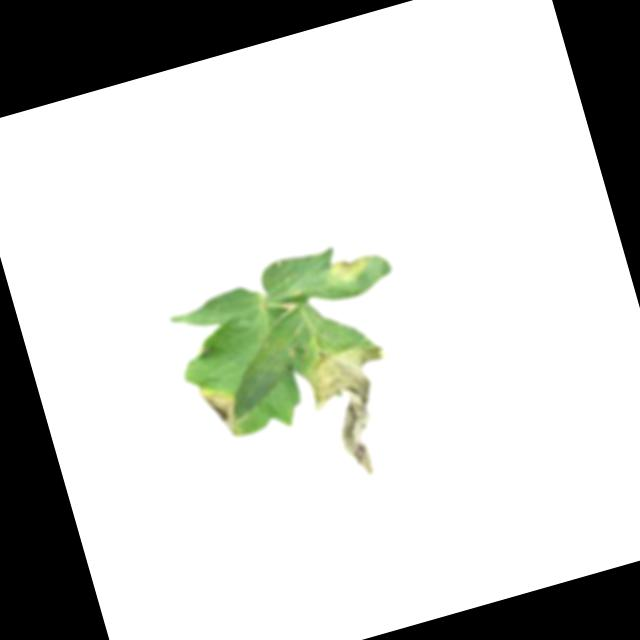Late_blight: (296, 331, 417, 487), (198, 382, 248, 444), (318, 245, 377, 290)
